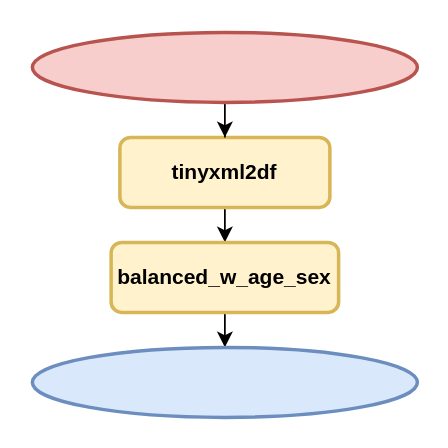
The diagram is 448 pixels wide and 448 high, and some of its shapes have lost their labels. The box of each missing label's shape, as (x1, y1, x2, y2) in pixels:
Train,Val & Test sets: (30, 345, 418, 418)
XML directory: (30, 30, 418, 103)
